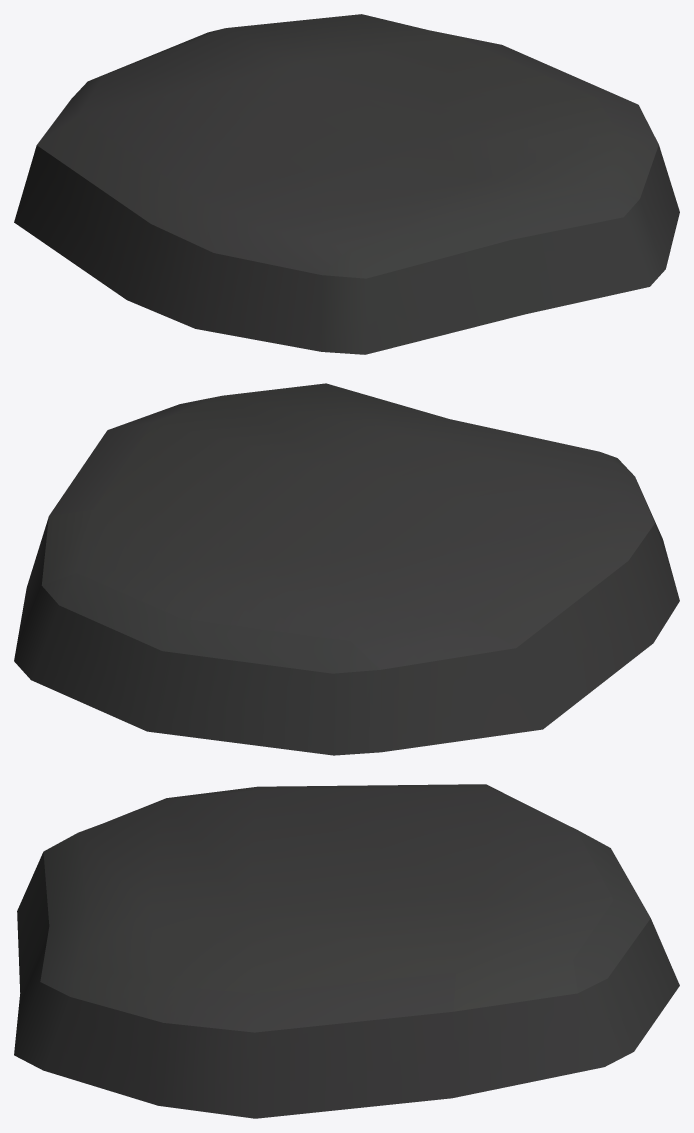
The model's file is Brick_4_2.obj.
3 renders of one model, top to bottom at view 1: azimuth 30°, elevation 25°; view 2: azimuth 150°, elevation 25°; view 3: azimuth 270°, elevation 25°, orthographic. The views are drawn at different scales.
Visible parts, largest first — view 1: Brick_4_2; view 2: Brick_4_2; view 3: Brick_4_2.
Boxes of the visible parts, box(x1,y1,x2,y2) form: Brick_4_2: box(14, 14, 679, 354); Brick_4_2: box(14, 383, 679, 755); Brick_4_2: box(14, 784, 679, 1118).
Size of the model in its own units: 0.4222 by 0.0674 by 0.4356.
